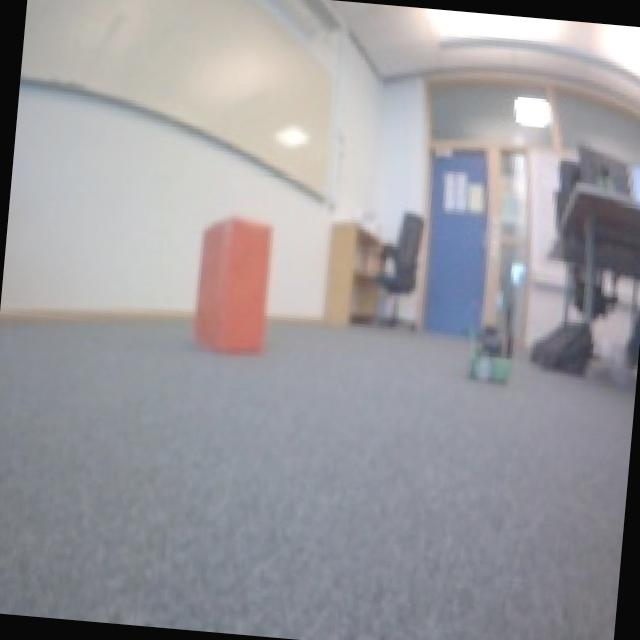robot: (464, 326, 519, 386)
target: (188, 209, 274, 355)
